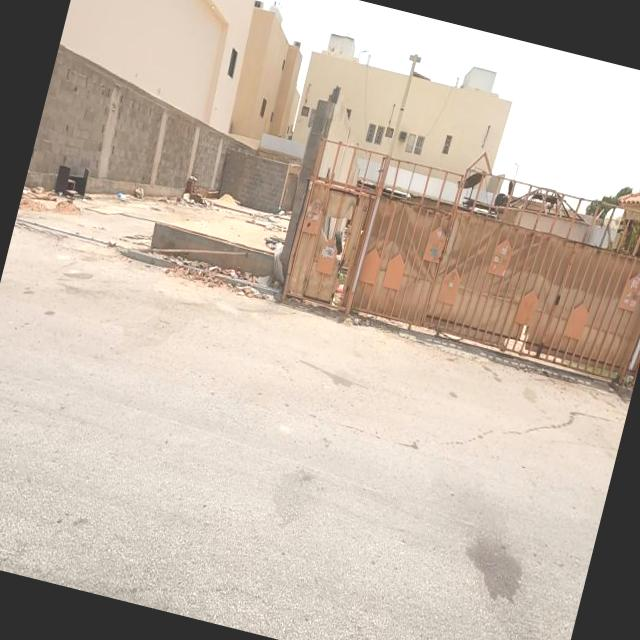debris: (12, 106, 144, 256), (127, 212, 268, 326), (204, 226, 307, 336), (238, 200, 310, 291), (95, 151, 167, 234), (152, 153, 224, 230), (240, 171, 306, 254)
